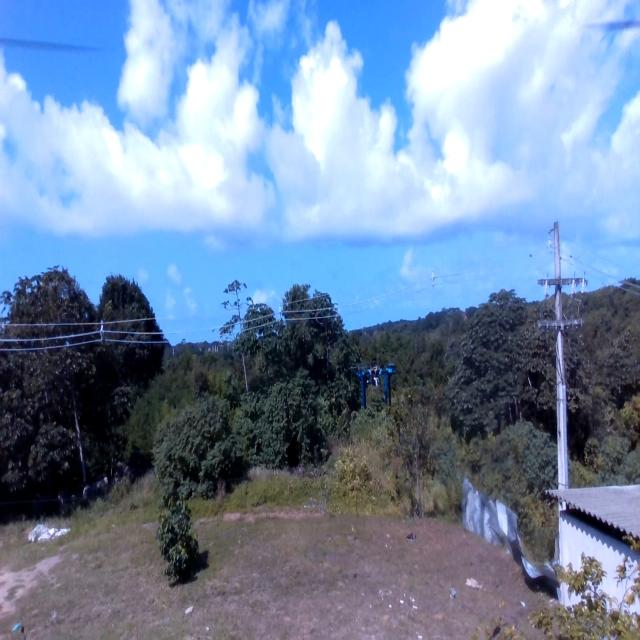-uav-: (352, 360, 406, 425)
